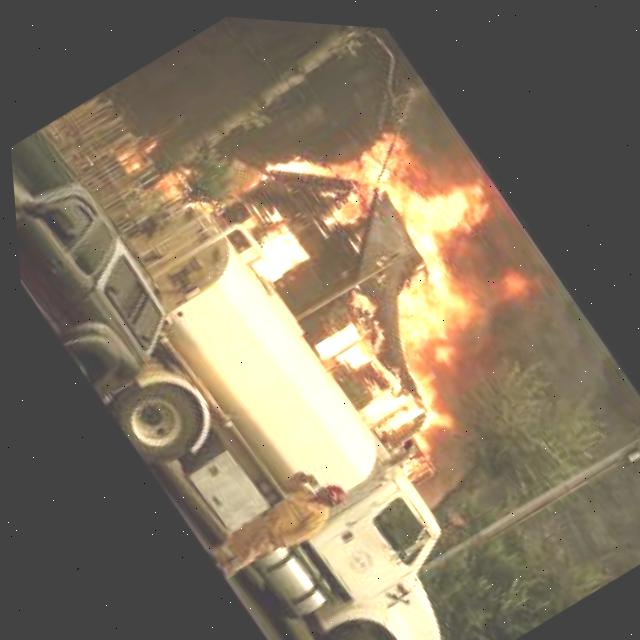Fire: (190, 50, 616, 499)
